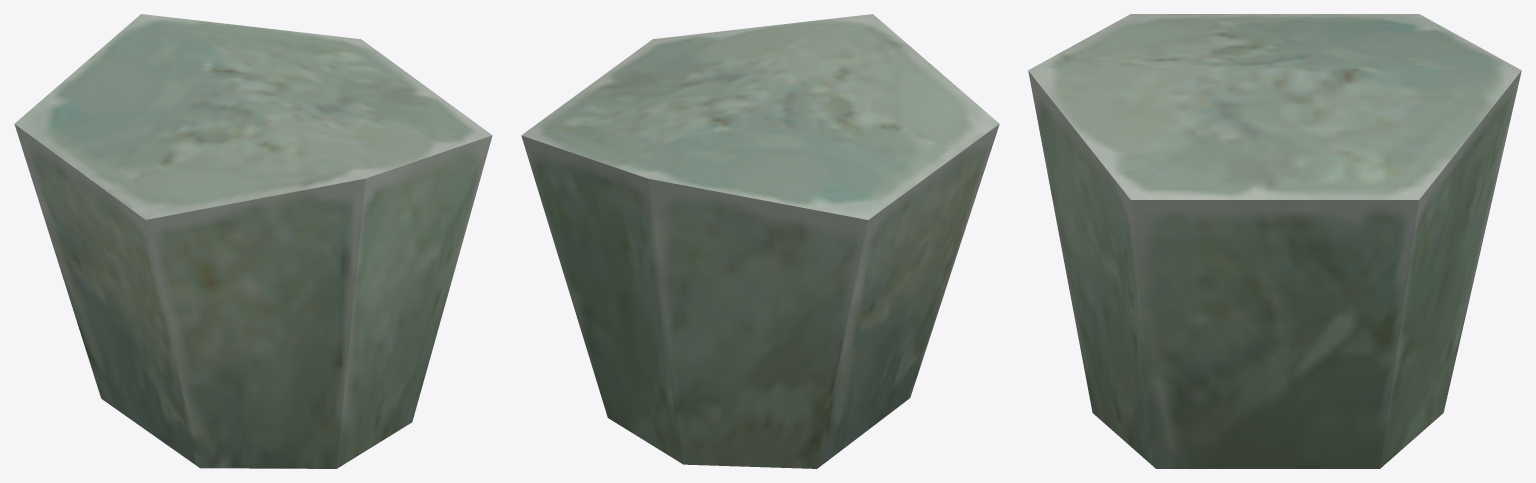
File: FB_ZhuLinXiaoXi_Shitou04.FBX
3 views of the same model, side by side, from view 1: azimuth 30°, elevation 25°; view 2: azimuth 150°, elevation 25°; view 3: azimuth 270°, elevation 25° (orthographic). The views are drawn at different scales.
Visible parts, largest first — view 1: Object44; view 2: Object44; view 3: Object44.
Boxes of the visible parts, box(x1,y1,x2,y2) form: Object44: box(14, 14, 492, 468); Object44: box(521, 14, 999, 468); Object44: box(1028, 14, 1521, 468).
Bounding box in the file's own units: 8.83 × 7.59 × 9.91.
